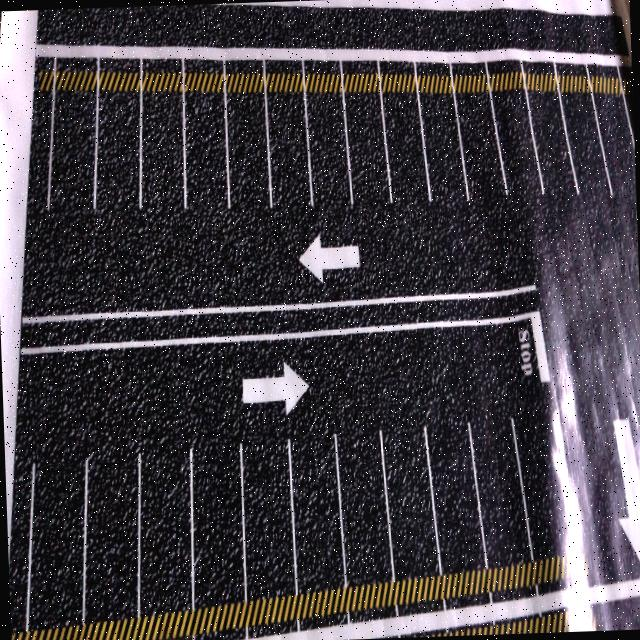slots: (29, 450, 84, 628), (515, 410, 575, 559), (471, 415, 530, 566), (291, 421, 343, 591), (86, 453, 138, 622), (140, 440, 190, 613), (244, 426, 294, 598), (427, 421, 483, 572), (194, 438, 244, 607), (384, 428, 438, 579), (339, 434, 391, 583), (50, 89, 96, 215), (456, 86, 505, 195), (306, 90, 351, 206), (267, 91, 311, 207), (96, 87, 138, 208), (492, 89, 540, 194), (345, 90, 389, 204), (561, 91, 609, 192), (593, 91, 636, 203), (420, 91, 465, 198), (142, 90, 183, 207), (186, 89, 226, 208), (528, 91, 574, 194), (383, 93, 427, 200), (227, 92, 267, 205)
